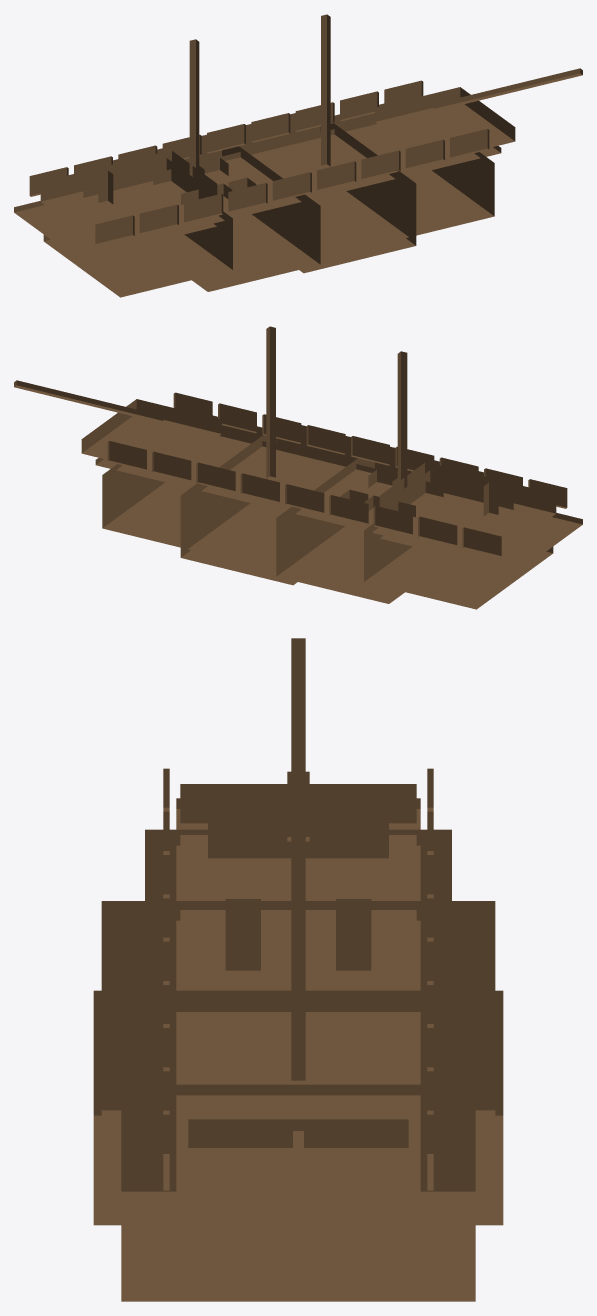
The model's file is SM_HarlowMerchantShip_Alpha.gltf.
The picture shows the model from 3 angles, top to bottom: view 1: azimuth 30°, elevation 25°; view 2: azimuth 150°, elevation 25°; view 3: azimuth 270°, elevation 25°; orthographic projection. The views are drawn at different scales.
Parts seen in each view (by area): view 1: SM_HarlowMerchantShip_Alpha; view 2: SM_HarlowMerchantShip_Alpha; view 3: SM_HarlowMerchantShip_Alpha.
Boxes of the visible parts, bbox=[...] form: SM_HarlowMerchantShip_Alpha: bbox=[14, 14, 582, 297]; SM_HarlowMerchantShip_Alpha: bbox=[14, 326, 582, 609]; SM_HarlowMerchantShip_Alpha: bbox=[93, 638, 503, 1301].
Size of the model in its own units: 31.5 by 11.7 by 10.4.
